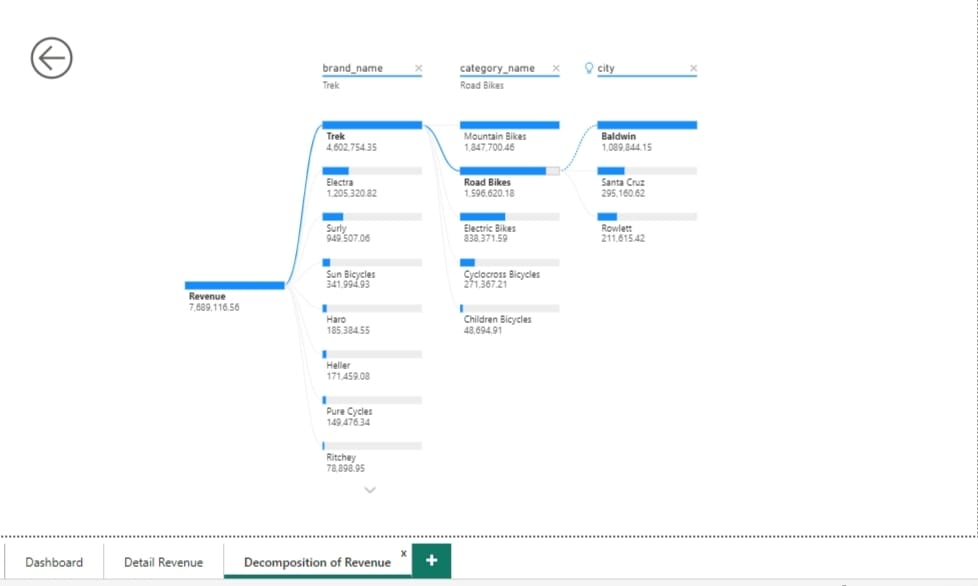

The dashboard page shown, as its layout file describes it:
{"tool":"powerbi","page":{"name":"Decomposition of Revenue","canvas":[1280,720],"ordinal":2},"visuals":[{"type":"decompositionTreeVisual","fields":{"Analyze":["measures_table.Revenue"],"ExplainBy":["brands.brand_name","categories.category_name","stores.city"]},"box":[213.8,83.1,900,598.5],"z":0},{"type":"actionButton","box":[33.8,60,69.2,69.2],"z":1000}]}

Visuals, with their boxes on the page's 1280x720 design canvas (x1, y1, x2, y2). These are canvas units, not pixel positions in the 978x586 screenshot, which may show the page scaled, cropped or inside an application window:
decompositionTreeVisual - measures_table.Revenue x brands.brand_name: (214, 83, 1114, 682)
actionButton: (34, 60, 103, 129)
